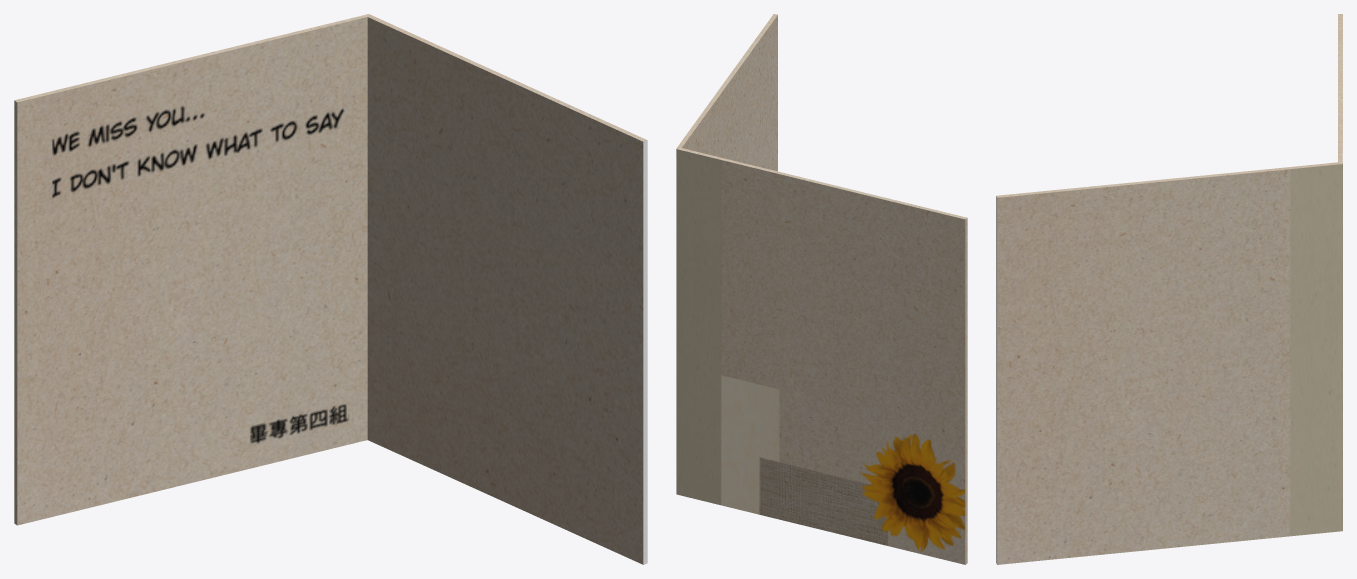
The picture shows the model from 3 angles, left to right: view 1: azimuth 30°, elevation 25°; view 2: azimuth 150°, elevation 25°; view 3: azimuth 270°, elevation 25°; orthographic projection. The views are drawn at different scales.
Visible parts, largest first — view 1: Box002; view 2: Box002; view 3: Box002.
Part boxes in pixels (box(x1,y1,x2,y2)): Box002: box(14, 14, 647, 564); Box002: box(676, 14, 967, 564); Box002: box(996, 14, 1342, 564).
Size of the model in its own units: 8.59 by 8 by 6.85.
Materials: 1 (1 with a texture image).
